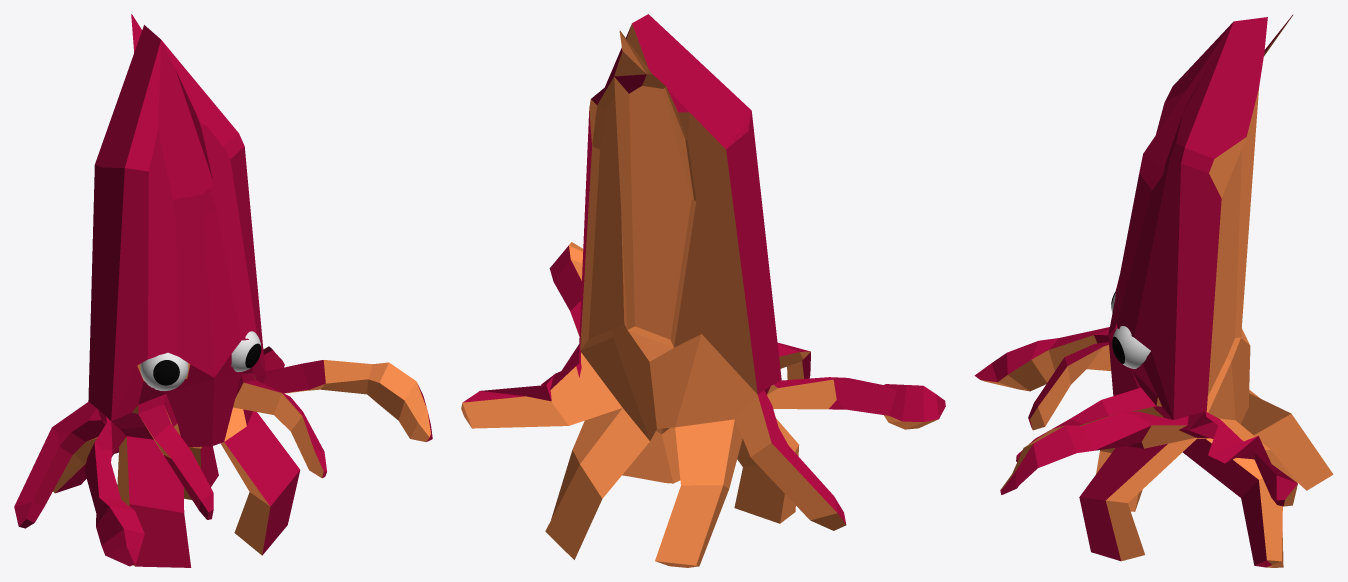
The model's file is Squid_Mk2.fbx.
The picture shows the model from 3 angles, left to right: view 1: azimuth 30°, elevation 25°; view 2: azimuth 150°, elevation 25°; view 3: azimuth 270°, elevation 25°; orthographic projection. The views are drawn at different scales.
Visible parts, largest first — view 1: Body; view 2: Body; view 3: Body.
Boxes of the visible parts, x1=… form: Body: x1=14, y1=14, x2=432, y2=567; Body: x1=461, y1=14, x2=945, y2=567; Body: x1=974, y1=14, x2=1333, y2=567.
Size of the model in its own units: 845 by 1197 by 736.
